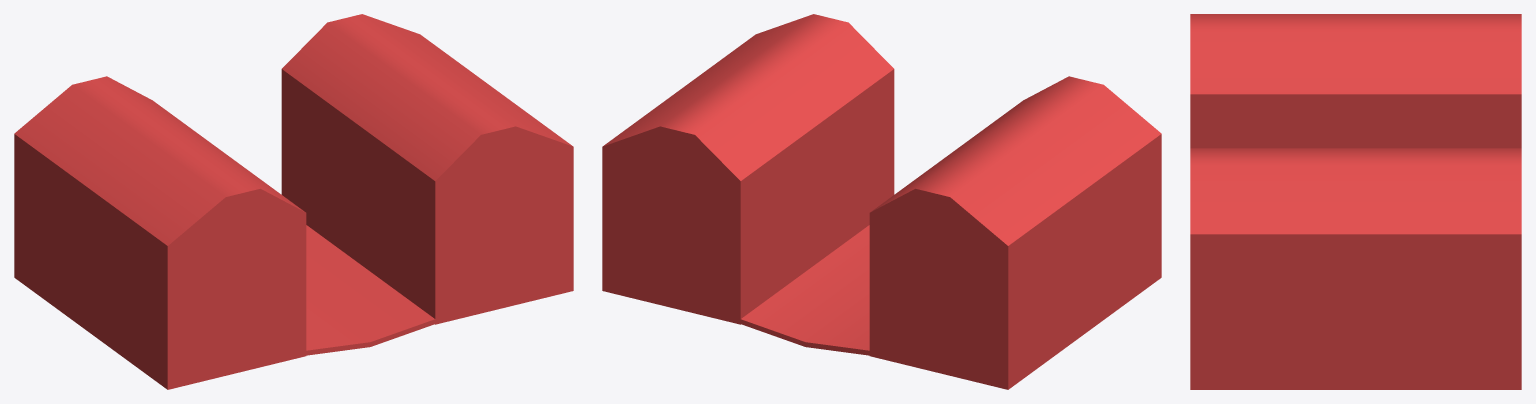
Rendered from Ground_Simple_Straight_COL.fbx.
The picture shows the model from 3 angles, left to right: view 1: azimuth 30°, elevation 25°; view 2: azimuth 150°, elevation 25°; view 3: azimuth 270°, elevation 25°; orthographic projection. The views are drawn at different scales.
Parts seen in each view (by area): view 1: Ground_Straight_COL; view 2: Ground_Straight_COL; view 3: Ground_Straight_COL.
Boxes of the visible parts, box(x1,y1,x2,y2) form: Ground_Straight_COL: box(14, 14, 573, 389); Ground_Straight_COL: box(602, 14, 1161, 389); Ground_Straight_COL: box(1190, 14, 1521, 389).
Bounding box in the file's own units: 611 × 266 × 400.
